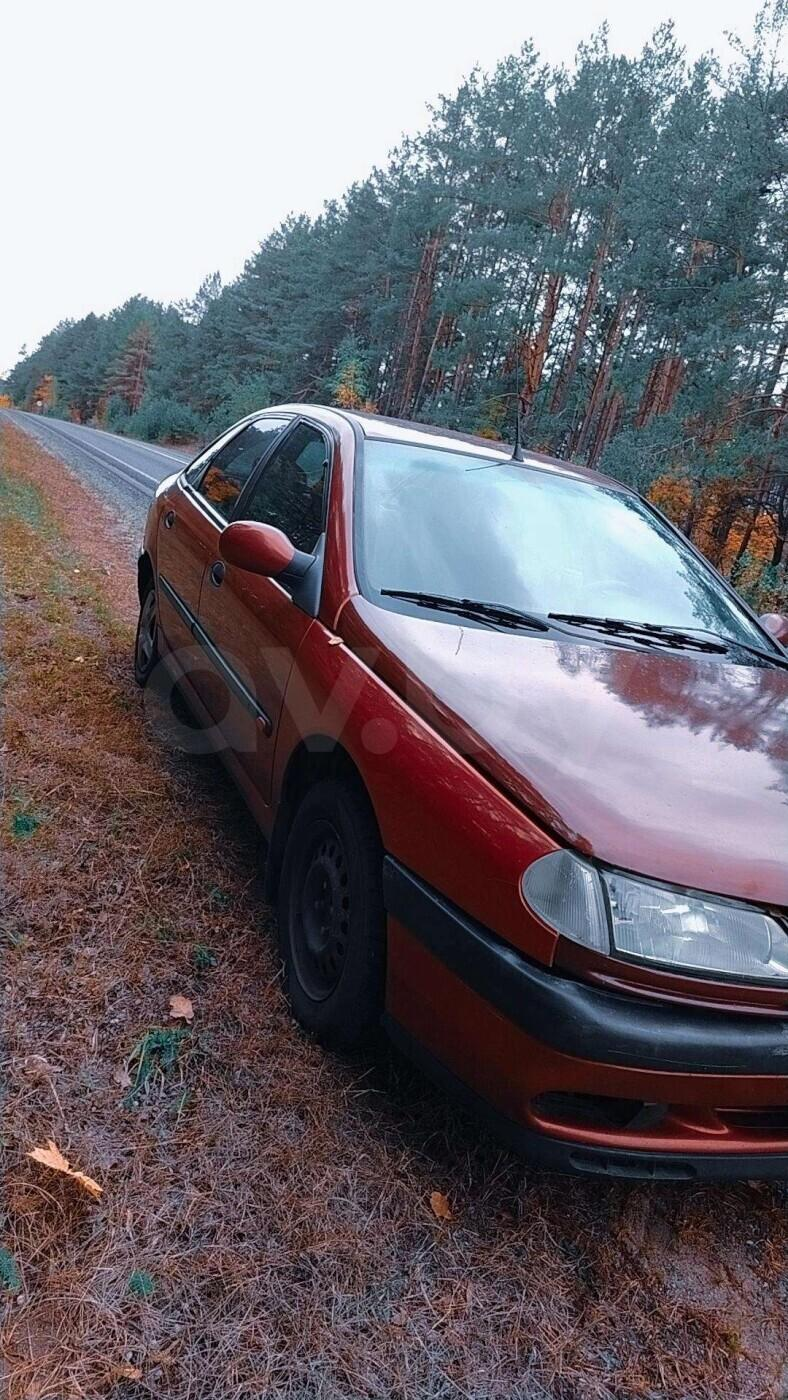Lahuna_1993-1999: (116, 394, 788, 1182)
